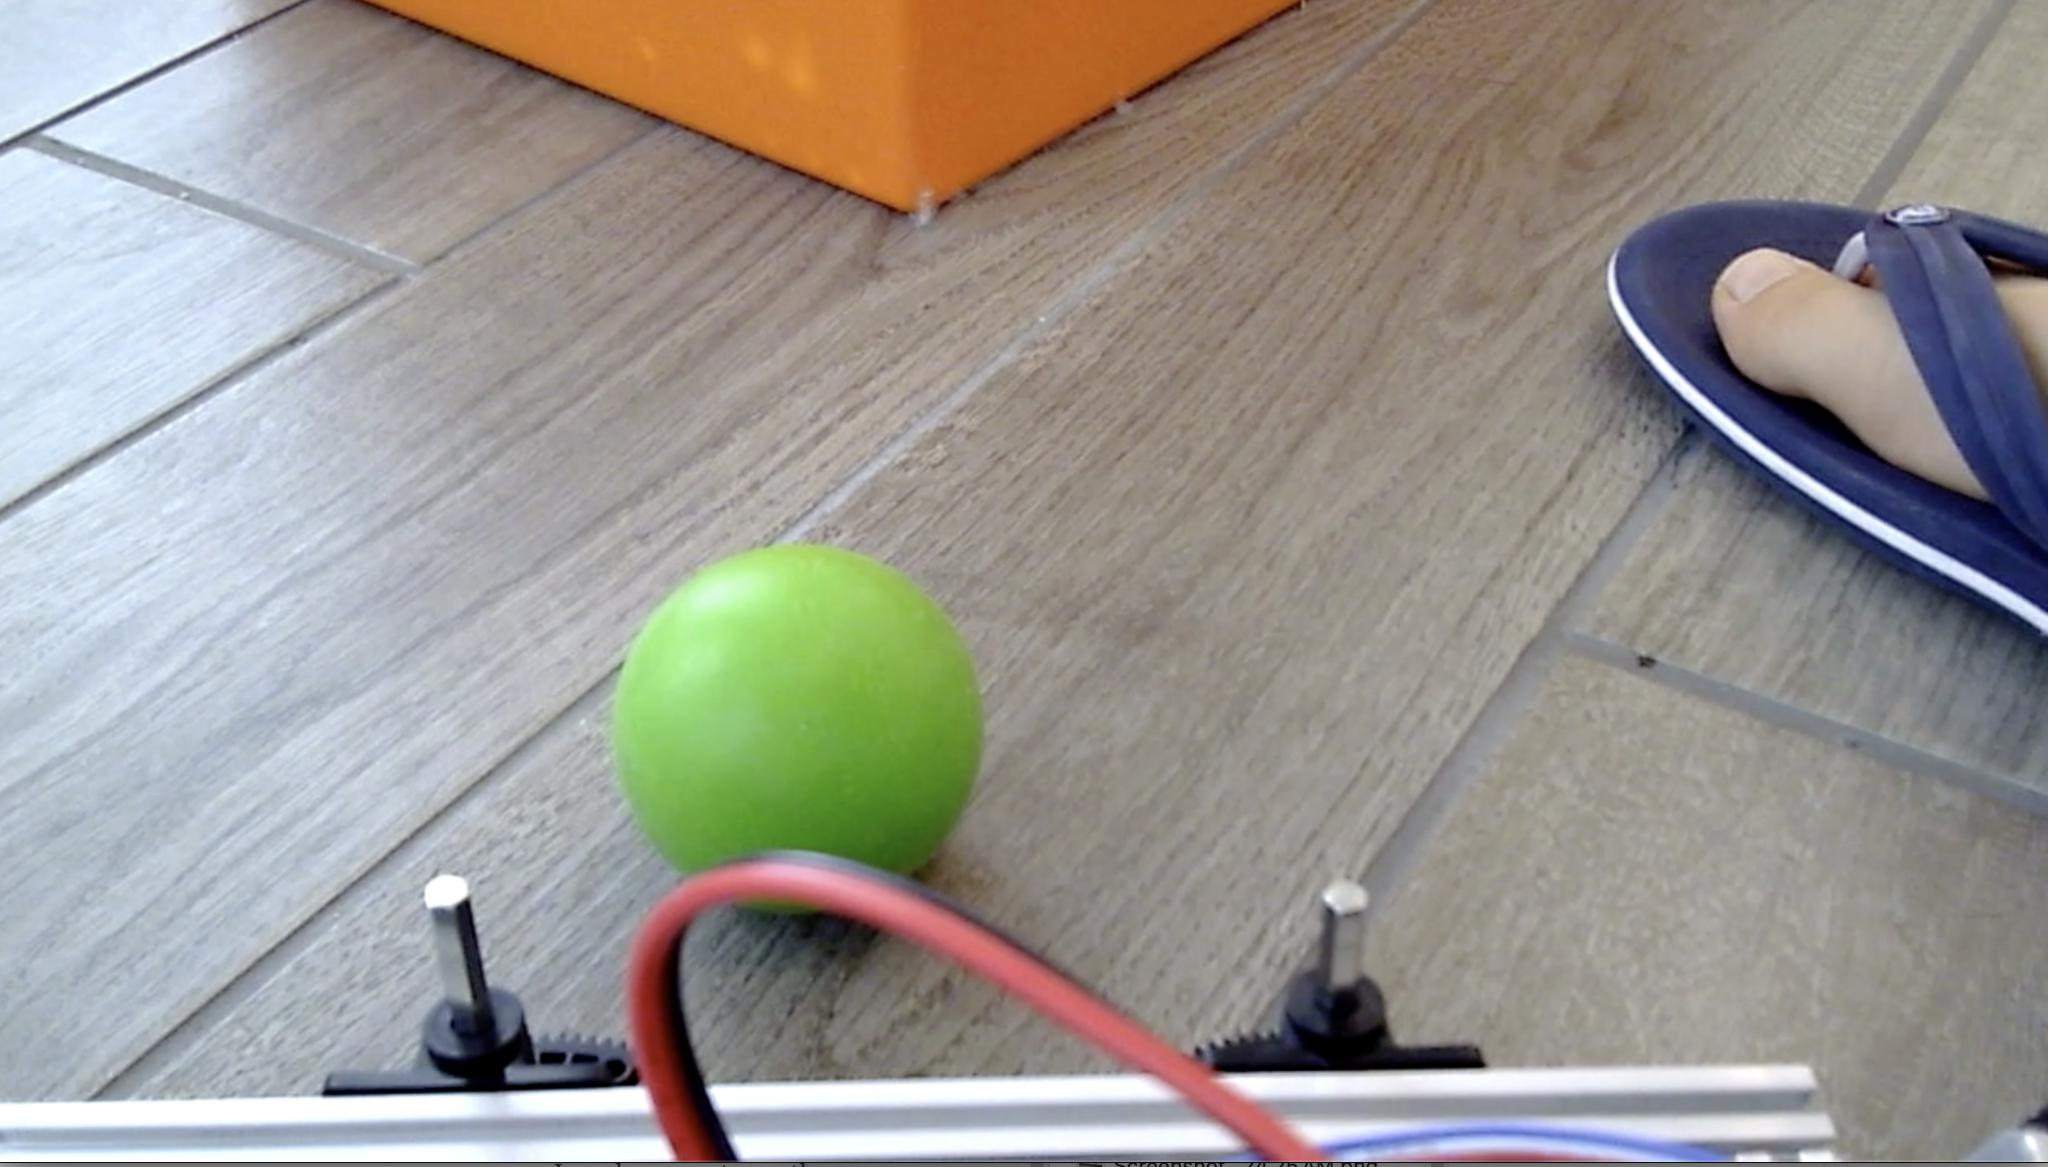greenball: (609, 540, 986, 915)
